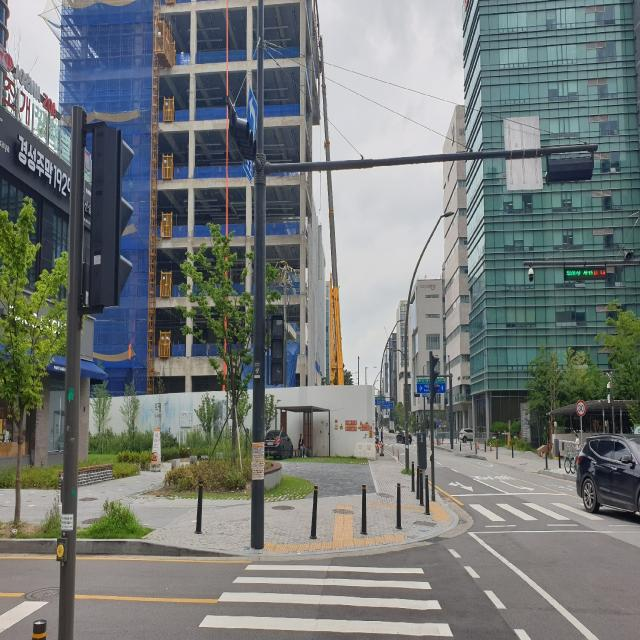횡단보도: (198, 562, 454, 638), (465, 495, 603, 537)
